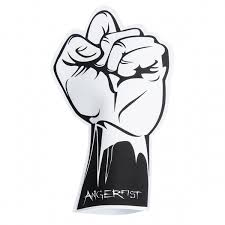fist: (66, 20, 173, 135)
